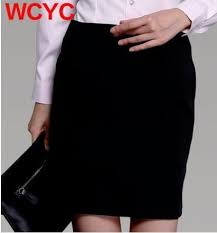F_tailored skirt: (47, 17, 201, 221)
